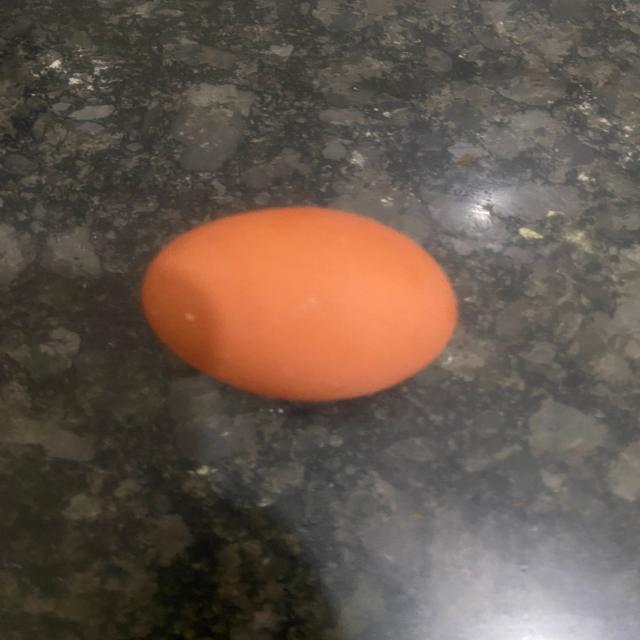egg: (133, 198, 471, 405)
